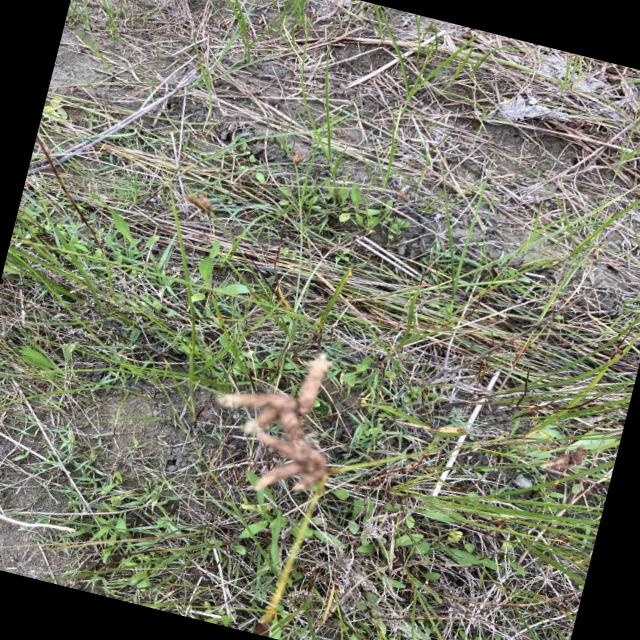cyperus: (201, 328, 385, 516), (533, 432, 593, 490), (175, 183, 224, 221)
